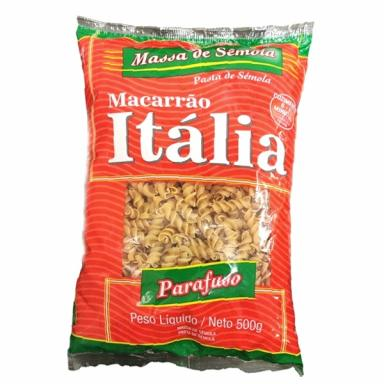pasta package: (69, 18, 312, 374)
